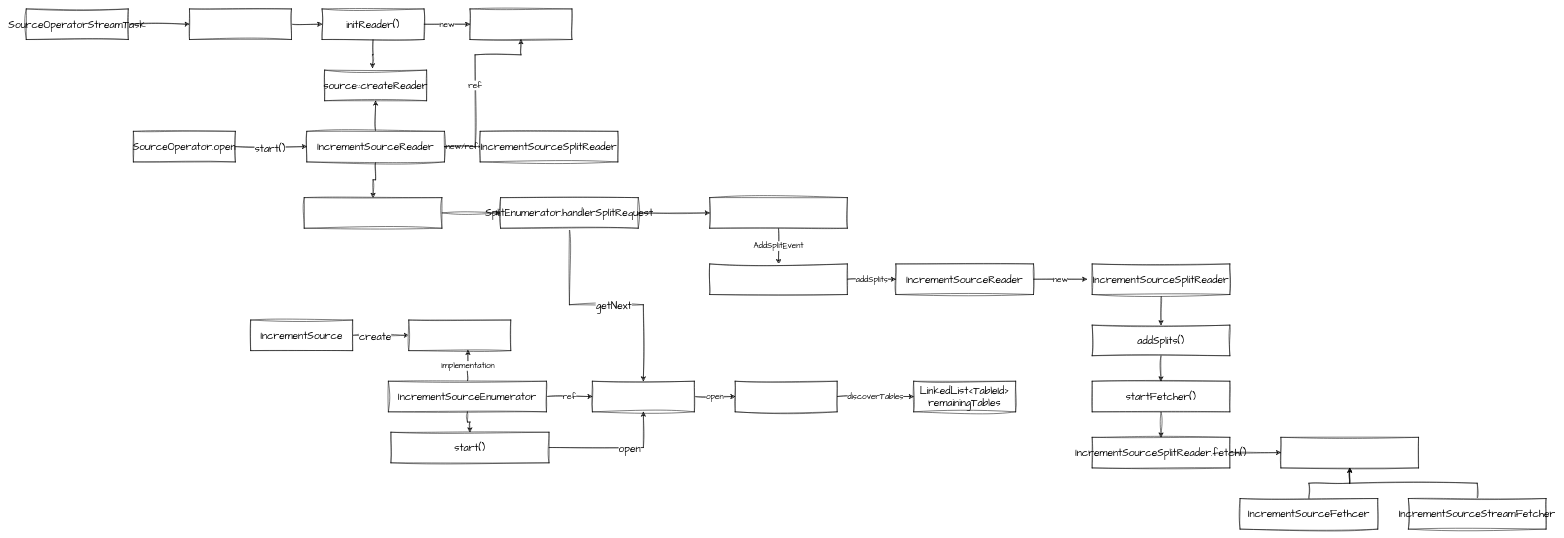
Image size: 1564x538. Some labels were removed from this diagram. Each missing label, with the centre of its shape:
context.sendSplitRequest: (x=373, y=212)
Fetch: (x=1349, y=452)
handleAddSplitsEvent: (x=778, y=279)
HybirdSplitAssigner: (x=643, y=396)
init(): (x=240, y=24)
SnapshotSplitAssigner: (x=786, y=396)
SourceOperator.handlerOperatorEvent(): (x=778, y=212)
SourceReaderContext: (x=520, y=24)
SpliteEnumerator: (x=459, y=335)
